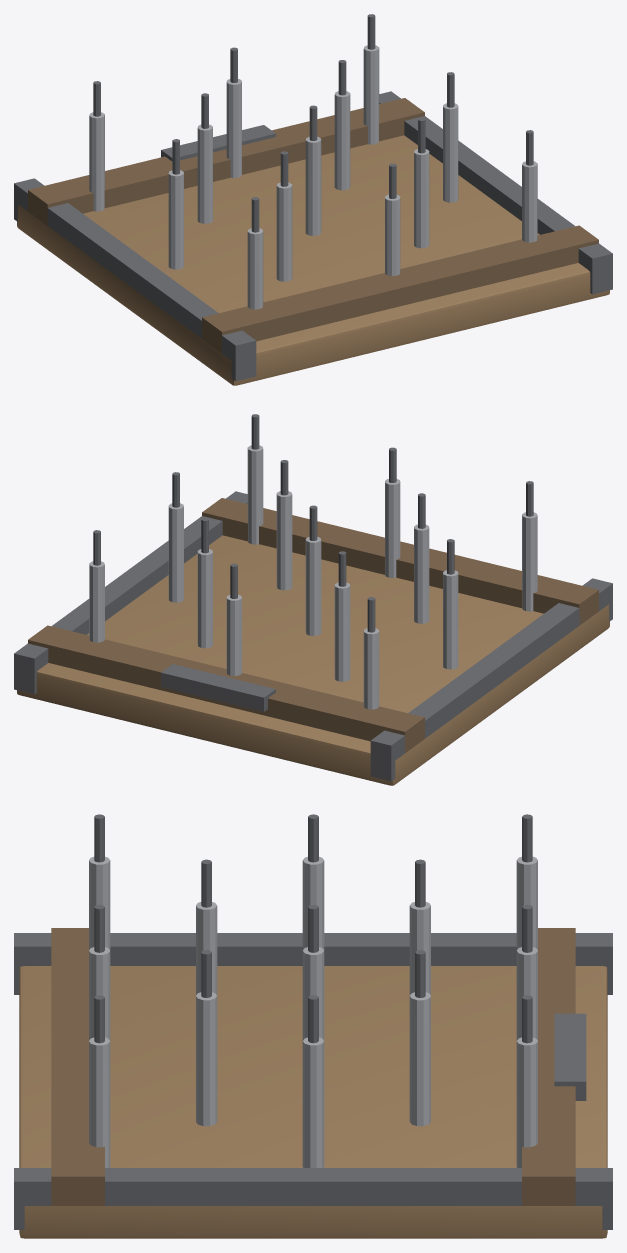
The model's file is DD_trap_spikes.fbx.
3 views of the same model, one above another, from view 1: azimuth 30°, elevation 25°; view 2: azimuth 150°, elevation 25°; view 3: azimuth 270°, elevation 25° (orthographic). The views are drawn at different scales.
Visible parts, largest first — view 1: DD_trap_spikes; view 2: DD_trap_spikes; view 3: DD_trap_spikes.
Part boxes in pixels (x1,y1,x2,y2): DD_trap_spikes: [14, 14, 612, 385]; DD_trap_spikes: [14, 414, 612, 785]; DD_trap_spikes: [14, 814, 612, 1238].
Bounding box in the file's own units: 1.1 × 0.43 × 1.12.
